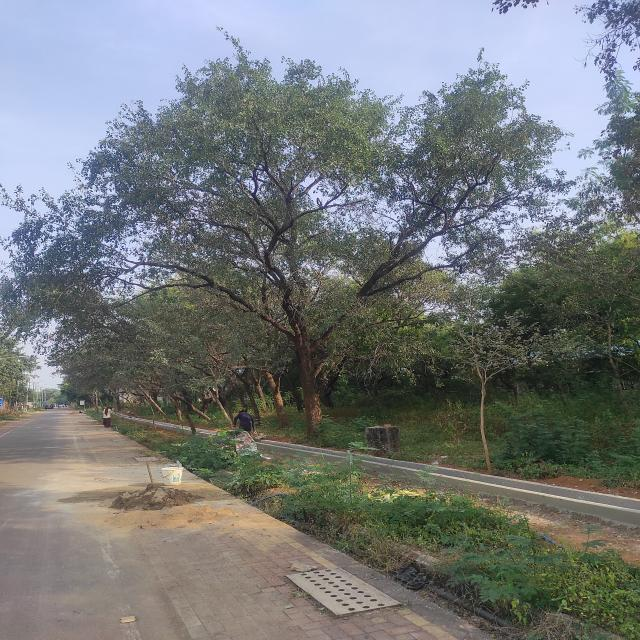Devakanchan tree: (34, 41, 522, 368)
